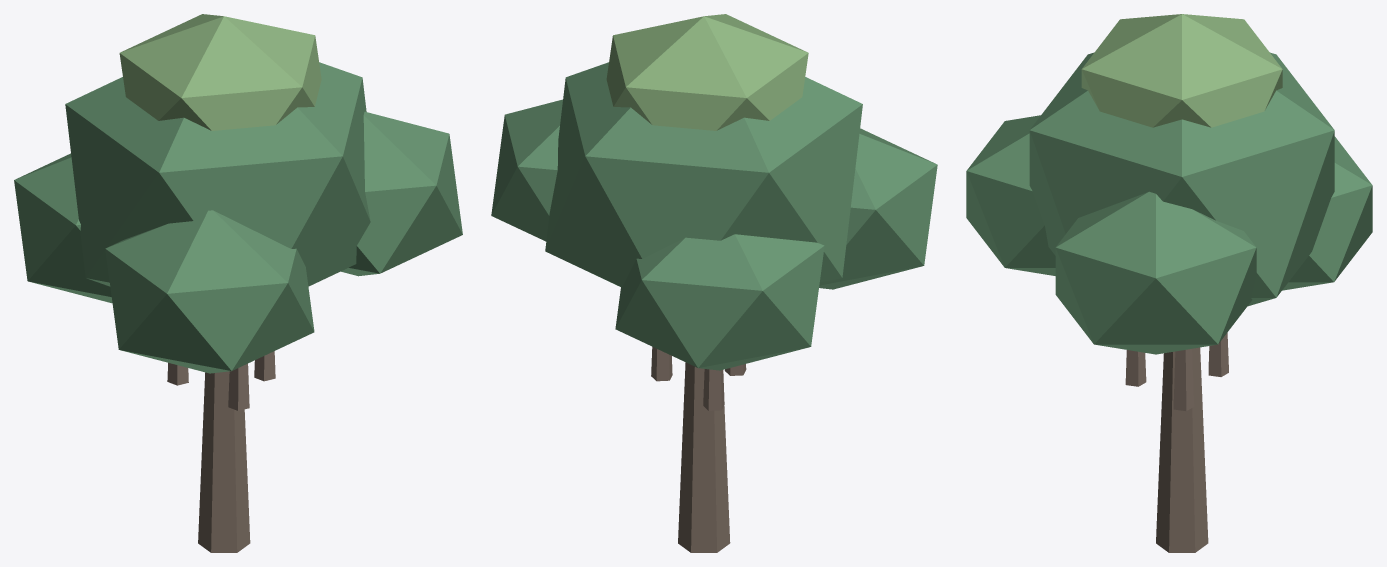
The model's file is veg-tree-broadleaf-a.glb.
3 views of the same model, side by side, from view 1: azimuth 30°, elevation 25°; view 2: azimuth 150°, elevation 25°; view 3: azimuth 270°, elevation 25° (orthographic).
Parts seen in each view (by area): view 1: canopy, canopy-top, trunk; view 2: canopy, canopy-top, trunk; view 3: canopy, canopy-top, trunk.
Boxes of the visible parts, bbox=[...] form: canopy: bbox=[14, 62, 462, 373]; canopy-top: bbox=[119, 14, 321, 130]; trunk: bbox=[167, 351, 275, 552]; canopy: bbox=[491, 62, 937, 370]; canopy-top: bbox=[606, 14, 808, 130]; trunk: bbox=[651, 347, 746, 552]; canopy: bbox=[966, 52, 1372, 354]; canopy-top: bbox=[1081, 14, 1282, 127]; trunk: bbox=[1125, 332, 1228, 552].
Size of the model in its own units: 4.97 by 6.68 by 4.64.
